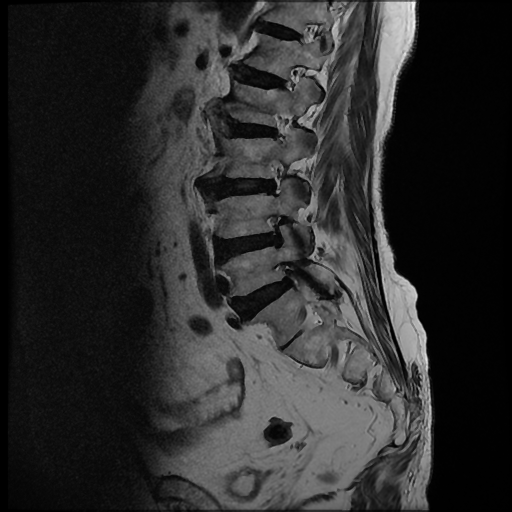LFS1: (252, 153, 296, 200)
LFS3: (254, 207, 298, 254)
